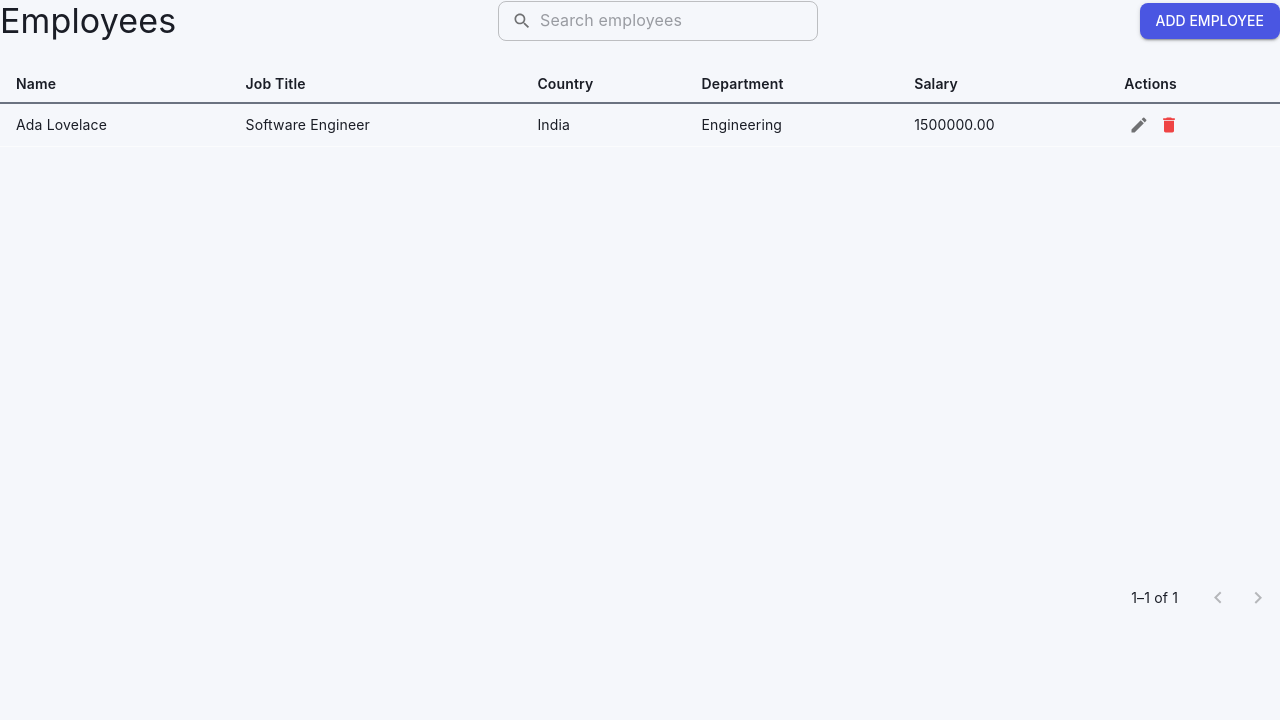
Test: EmployeesPage › updates an employee and refreshes the list
This screenshot has width=1280, height=720.
Expected: the text "Ada Lovelace" is shown, [0,103,230,146]
Click the button named "edit ada lovelace".
click(1139, 125)  # box [1124,110,1154,140]
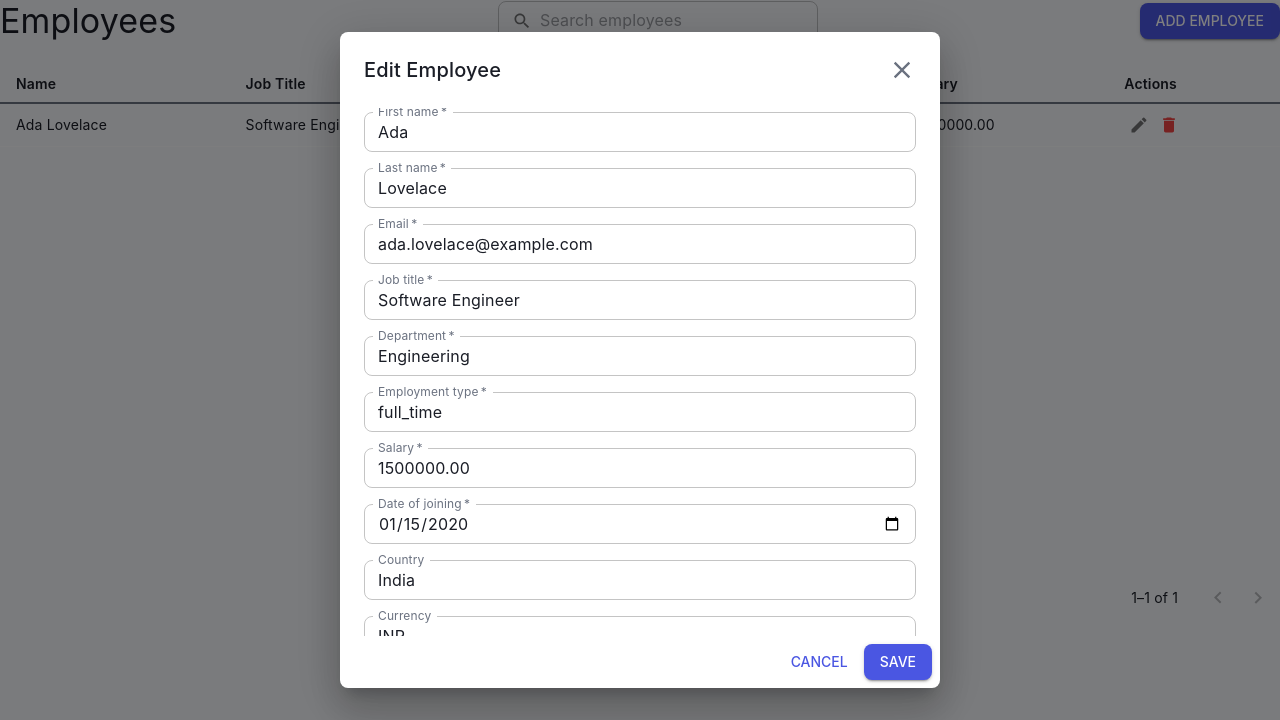
Replace the text in the field labelled "First name *" with "Augusta" at (640, 132), box [364,112,916,152]
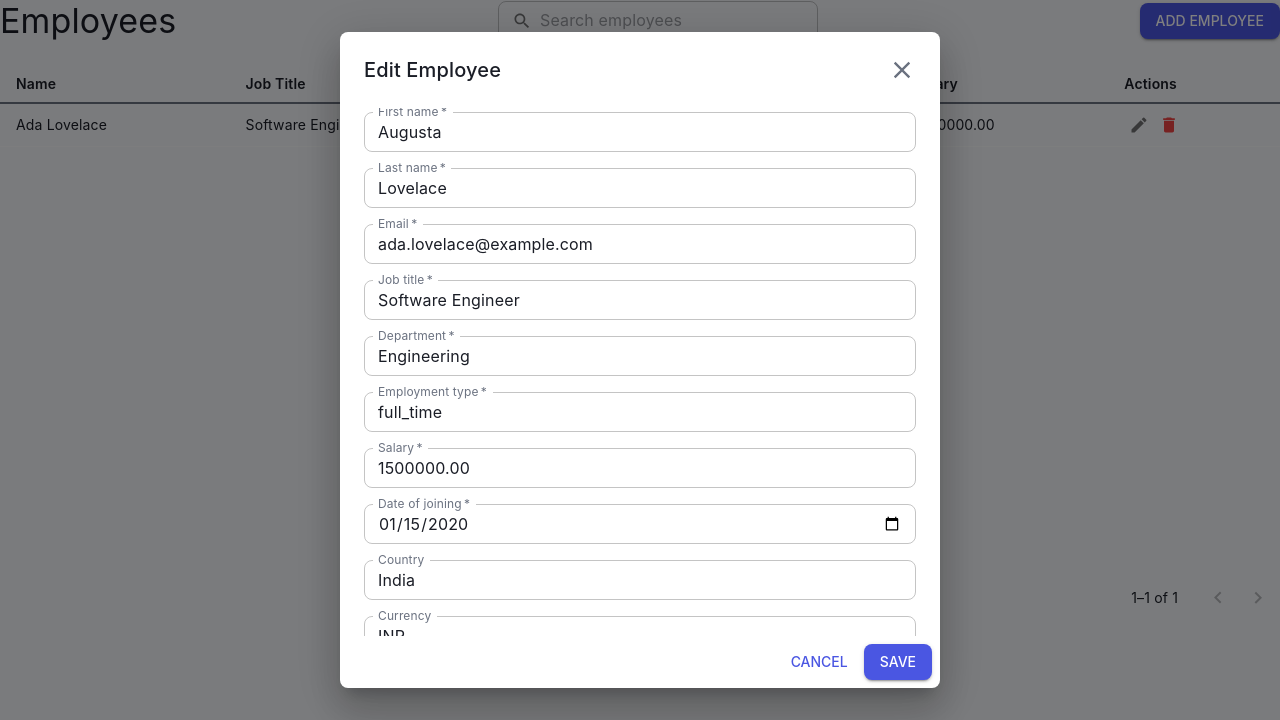
Replace the text in the field labelled "Last name *" with "Ada" at (640, 188), box [364,168,916,208]
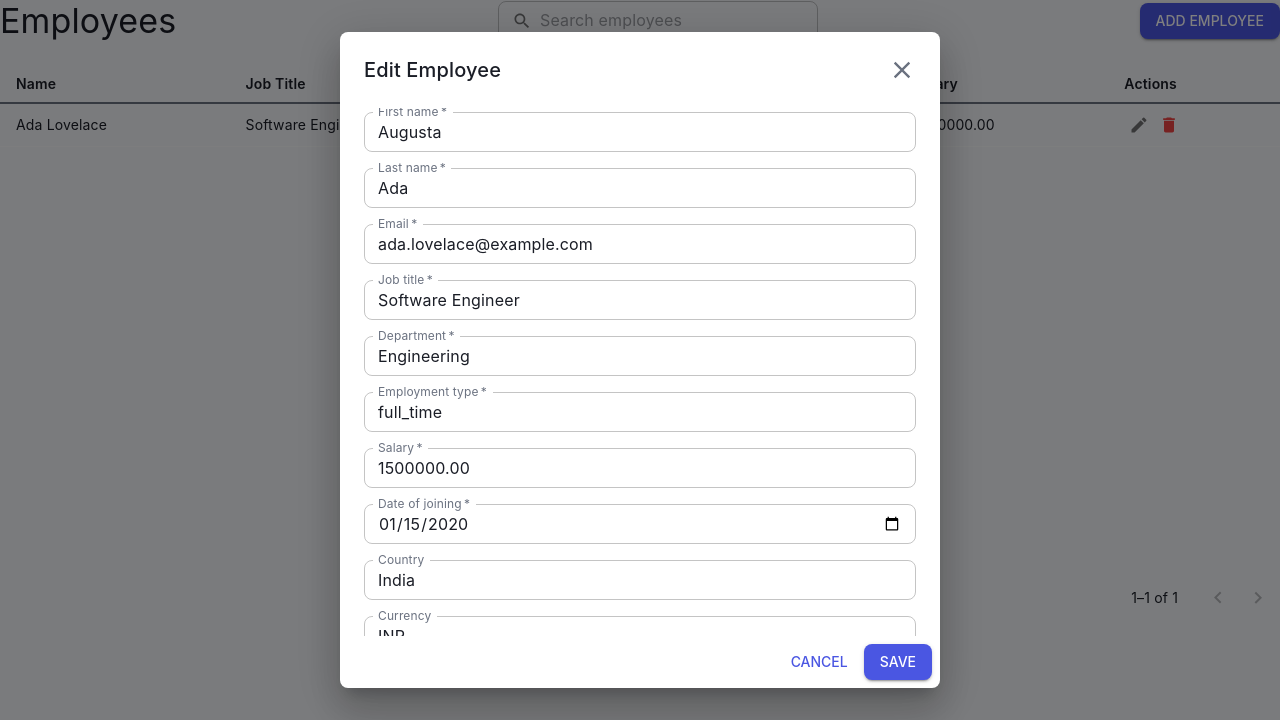
Click the button "Save".
click(898, 662)  # box [864,644,932,680]
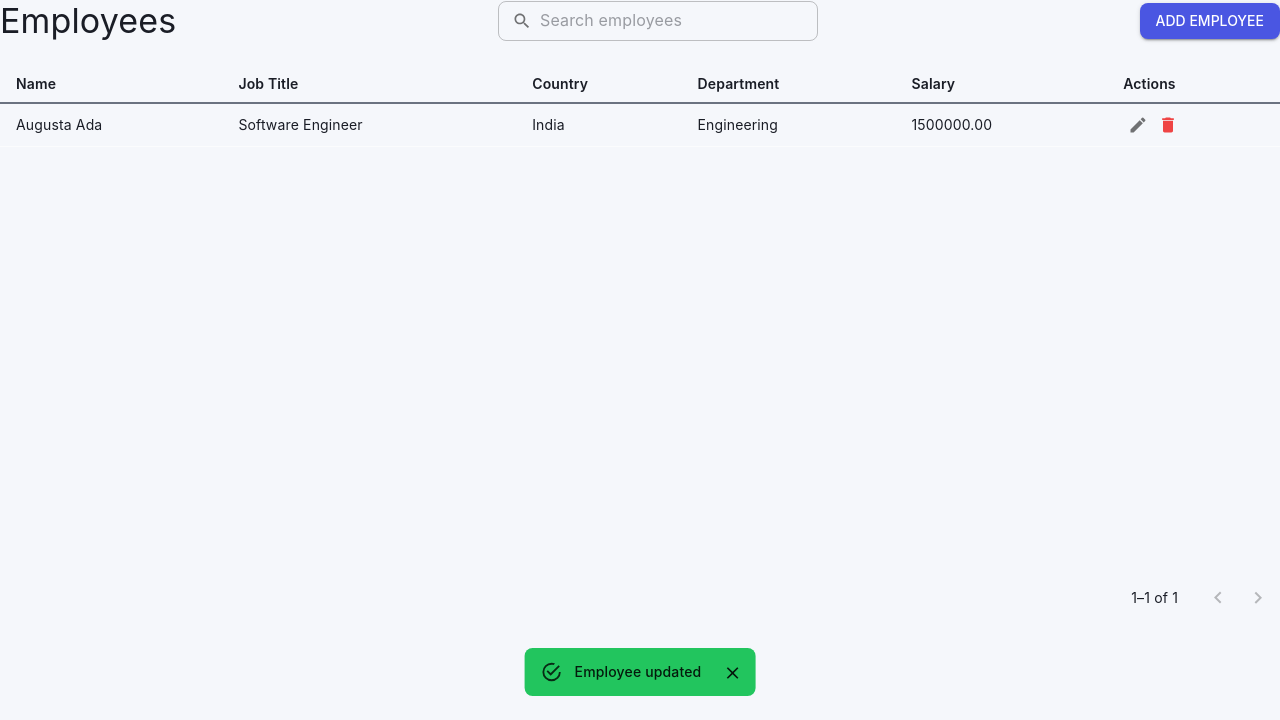
Expected: the text "Augusta Ada" is shown, [0,103,222,146]
Expected: the text "Ada Lovelace" is gone
Expected: the message reads "Employee updated", [575,663,701,680]
